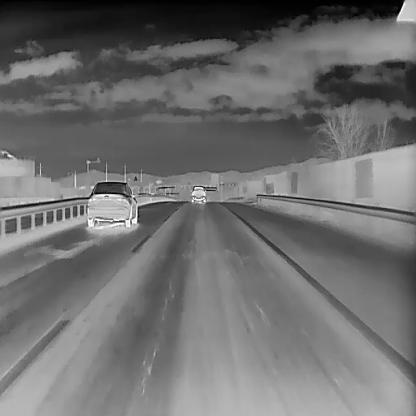car: (86, 180, 138, 226), (189, 184, 207, 202)
